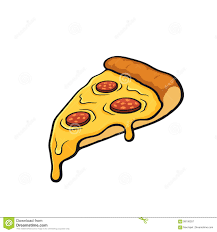pizza: (45, 63, 186, 183)
